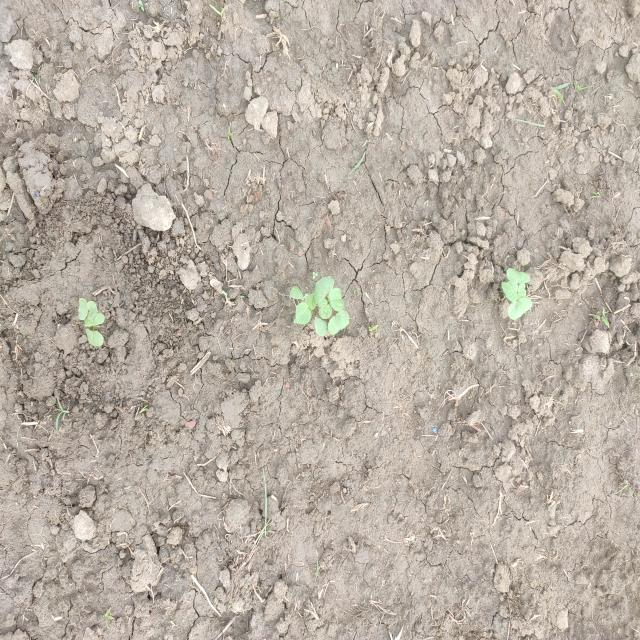seedling_s4: (313, 276, 335, 304), (508, 297, 533, 320), (328, 310, 349, 336), (293, 302, 311, 324), (506, 268, 530, 284), (501, 280, 518, 302), (329, 287, 344, 311), (86, 329, 104, 347), (84, 313, 105, 327), (318, 298, 332, 319), (314, 317, 328, 336), (290, 286, 308, 299), (78, 298, 88, 320), (87, 301, 98, 320), (305, 293, 316, 311), (517, 283, 526, 299)
